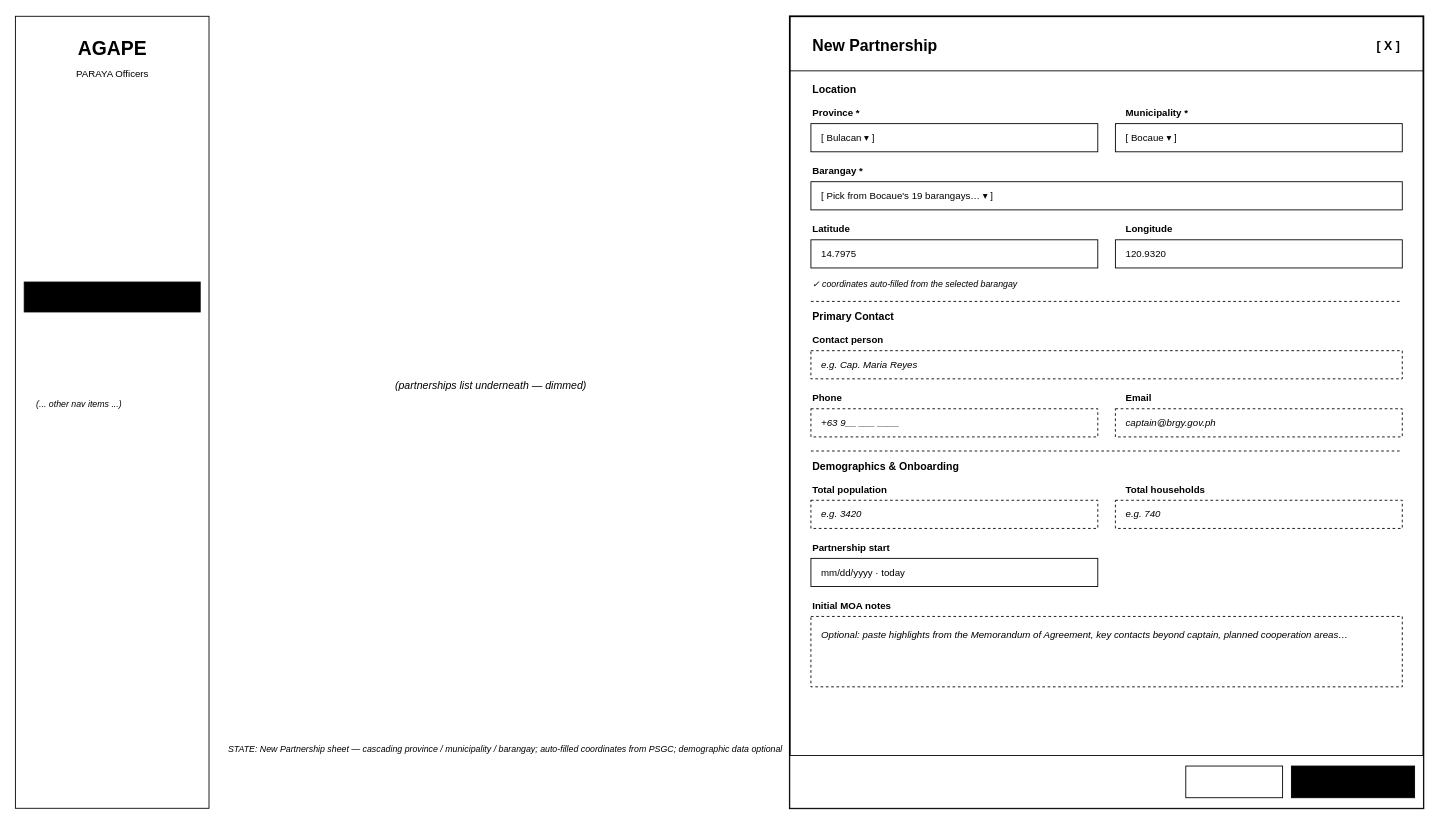
The diagram is 1440 pixels wide and 824 high, and some of its shapes have lost their labels. The shapes that lost their labels are listed below. From the top down, each one's box as (x1, y1, x2, y2) in pixels, then its label:
(23, 281, 200, 312): [x] Partnerships
(1185, 765, 1283, 798): [ CANCEL ]
(1291, 765, 1415, 798): [ CREATE PARTNERSHIP ]
